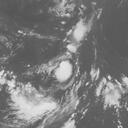cyclone: (49, 57, 80, 89)
